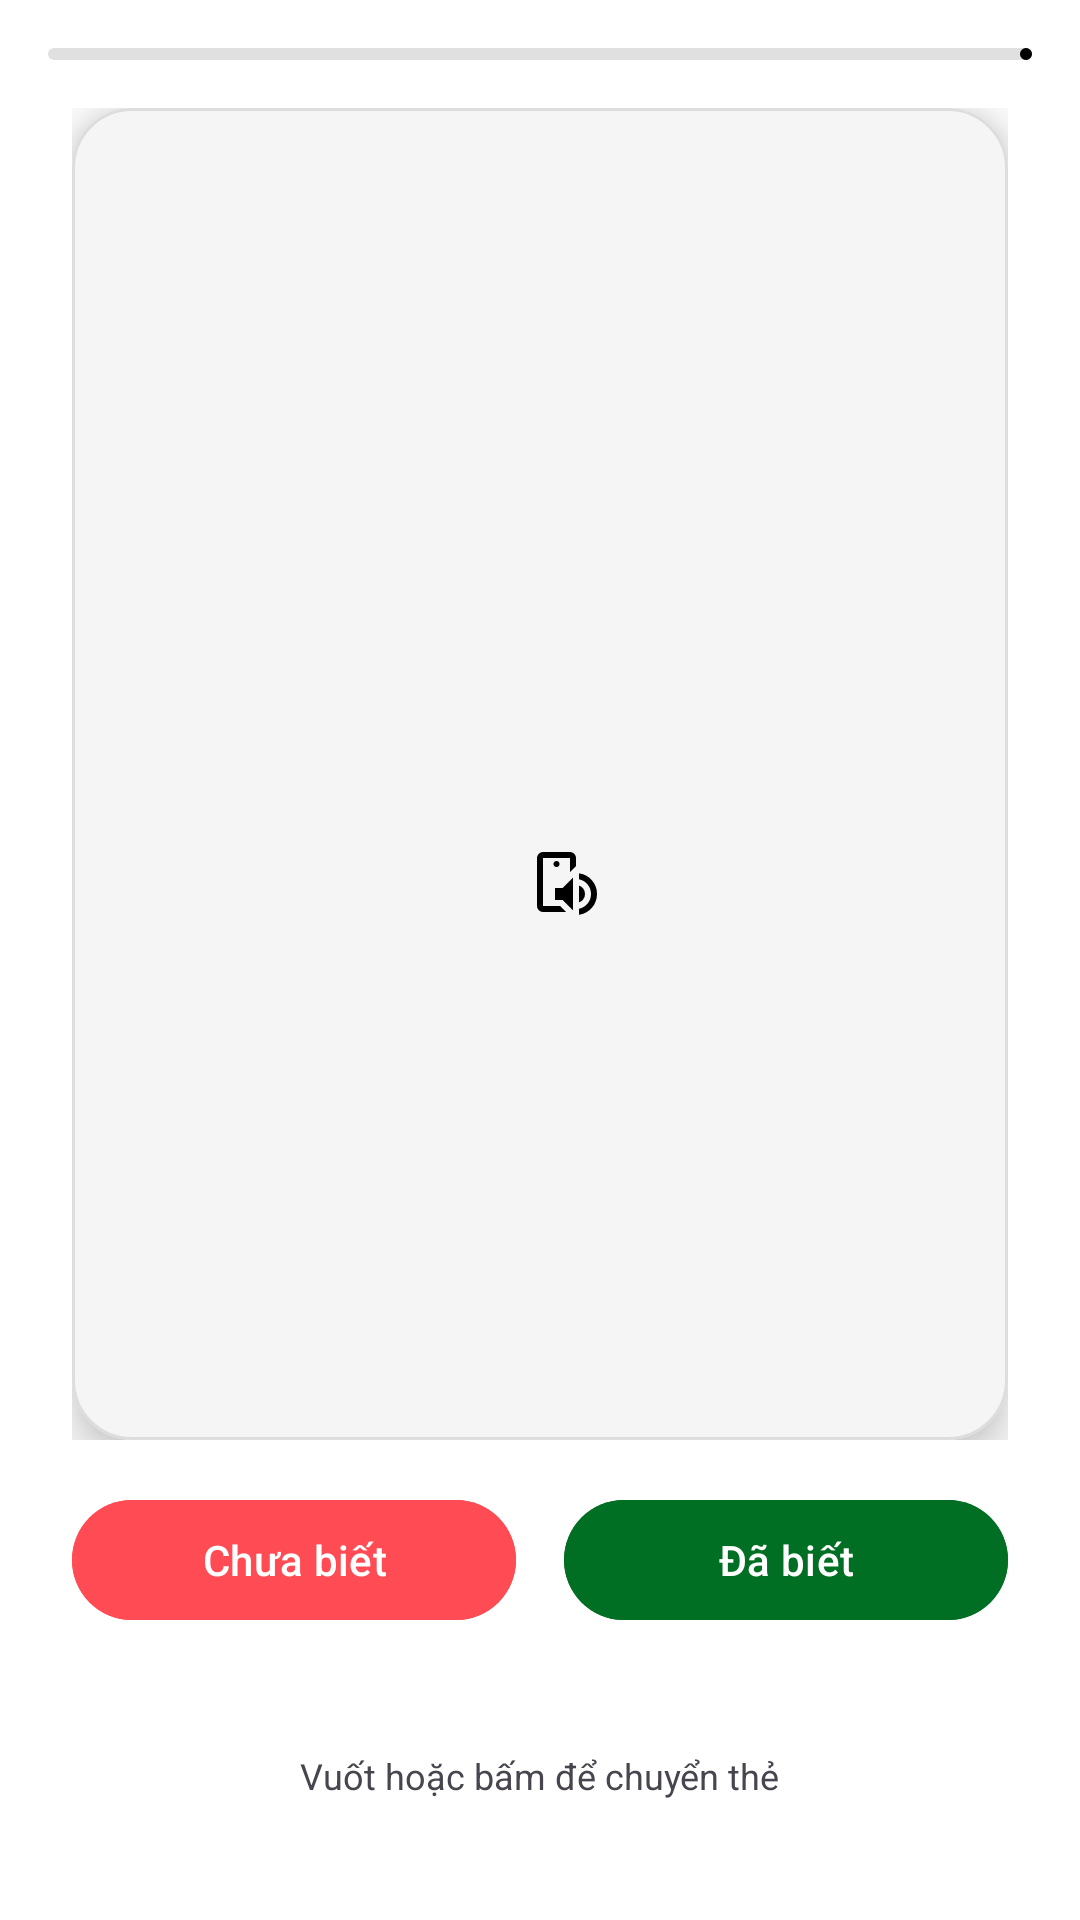

Icons on this 1080×1920 Android screen, each with its box as (x1, y1, x2, y2):
Phát âm: (537, 852, 597, 915)
